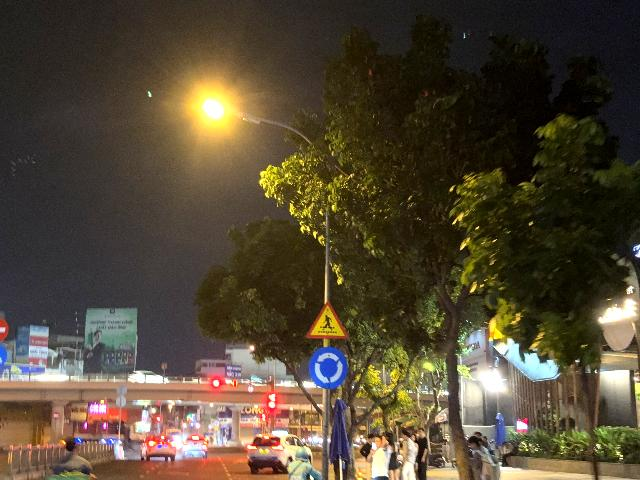duong-nguoi-di-bo-cat-ngang: (307, 299, 349, 338)
noi-giao-nhau-chay-theo-vong-xuyen: (309, 346, 348, 390)
